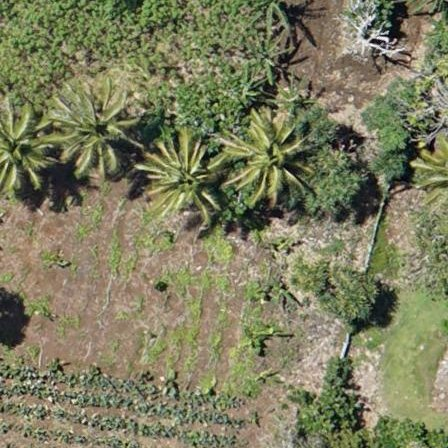palm_tree: (227, 115, 309, 194), (56, 88, 128, 164), (147, 135, 219, 211), (1, 102, 47, 188)
